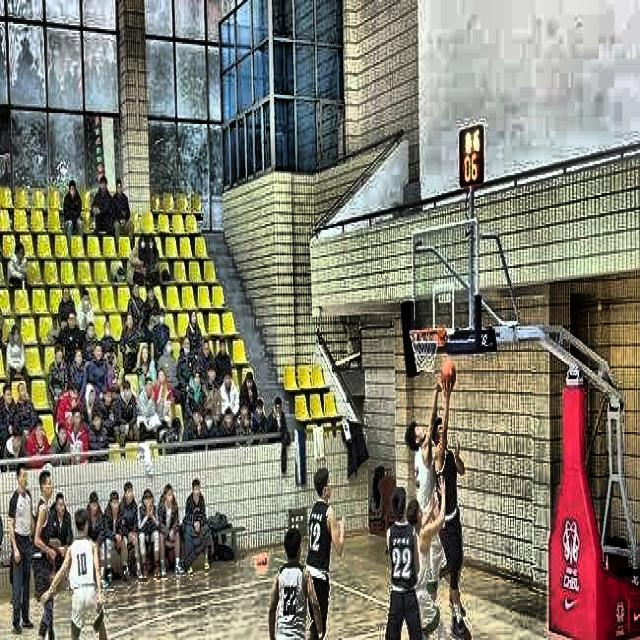rim: (407, 329, 442, 373)
